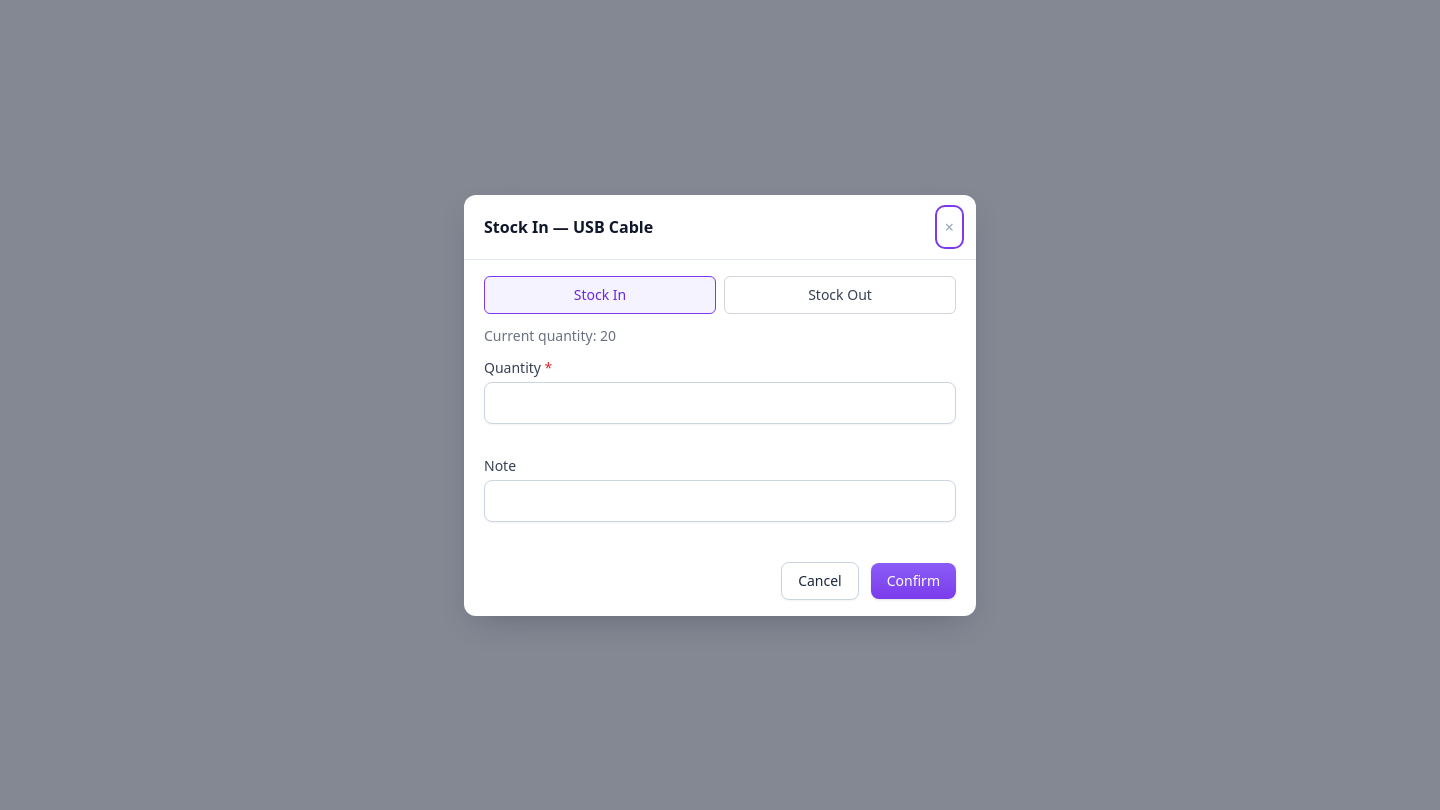
Scenario: StockMovementDialog (F6) › renders the server-authoritative available on INSUFFICIENT_STOCK (BR-11)
This screenshot has width=1440, height=810.
Type "5" into the number field labelled "Quantity *" at coordinates (720, 402), box [484,382,956,424]
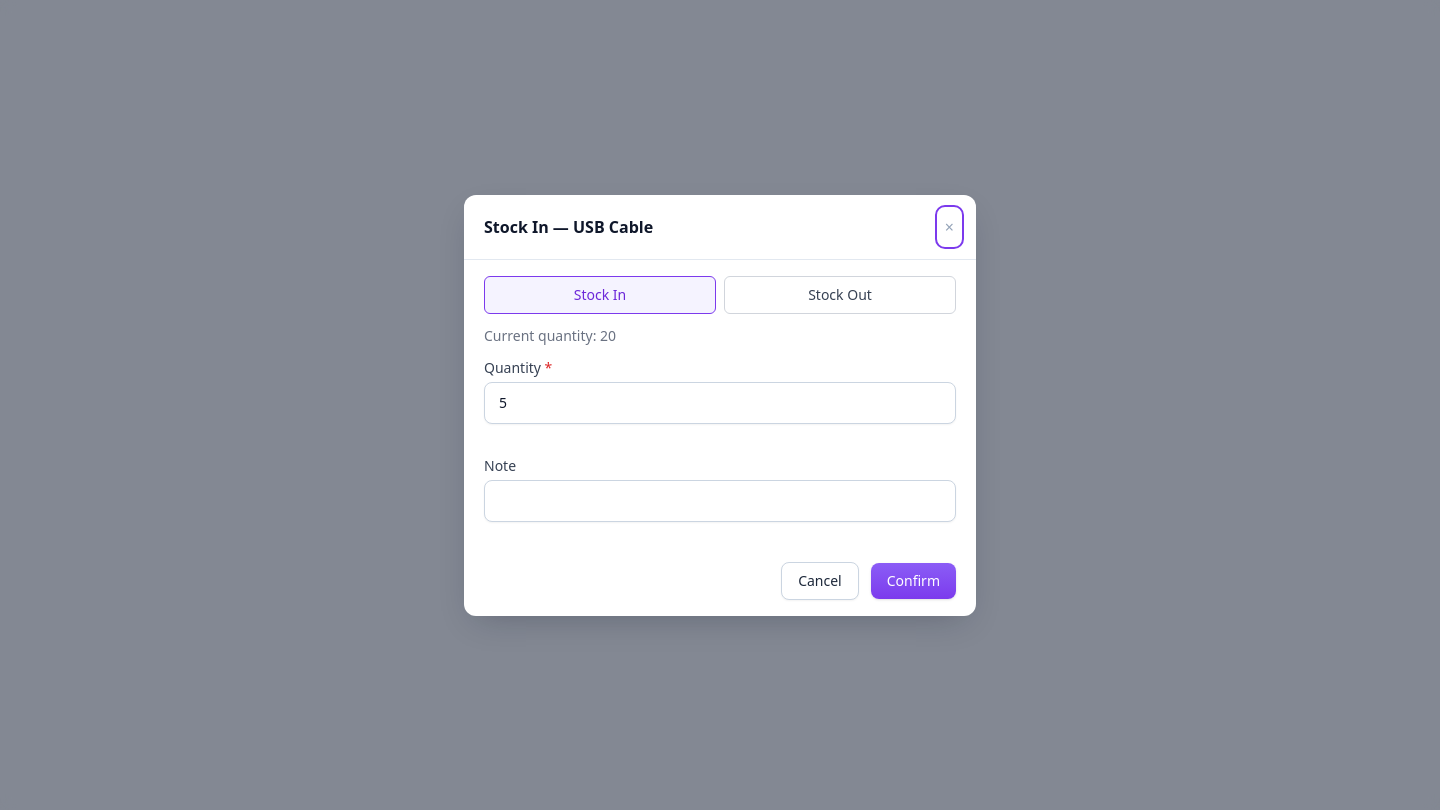
Click the button "Confirm" at coordinates (913, 580), box [871,562,956,598]
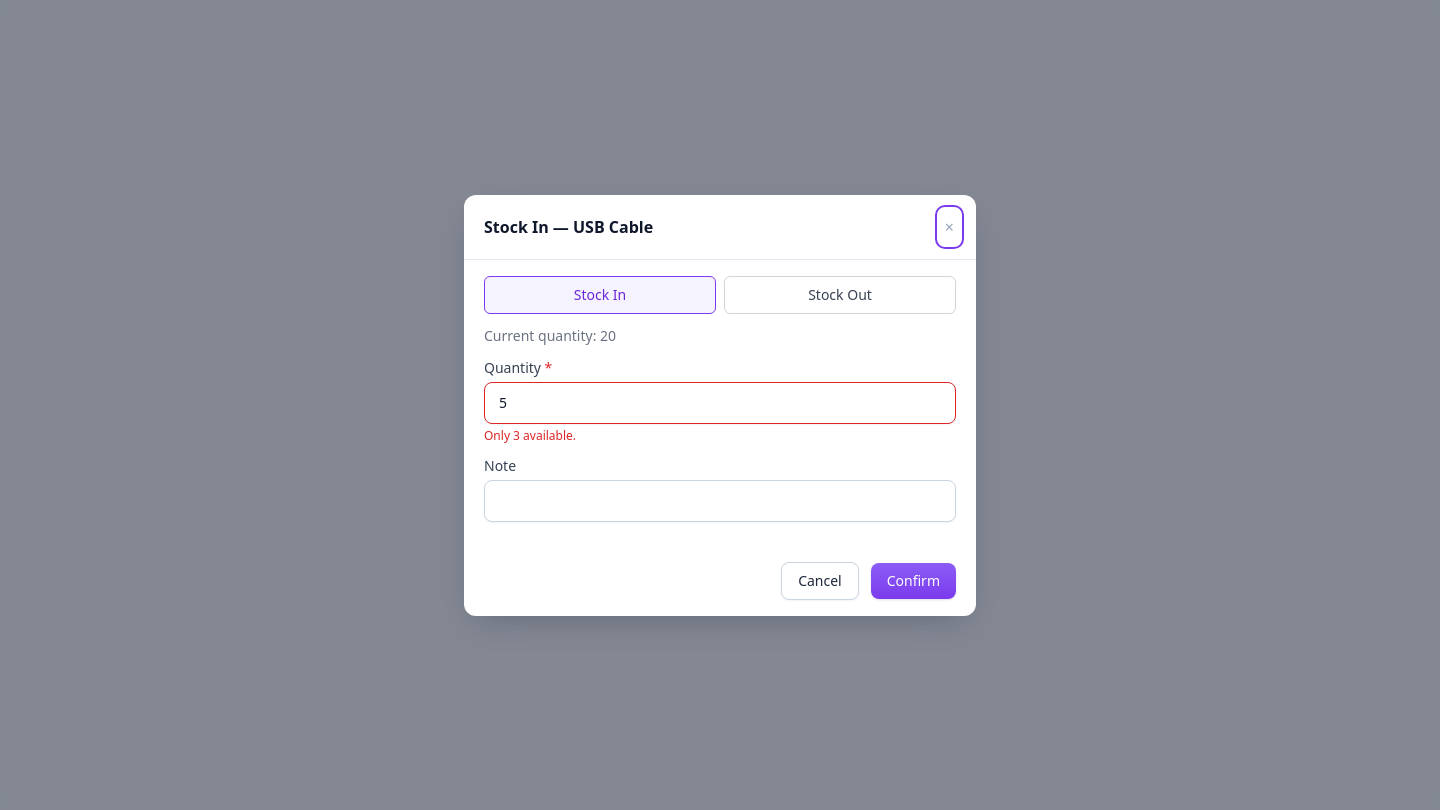
expect the text "Only 3 available." is shown: met, box [484,426,576,444]
